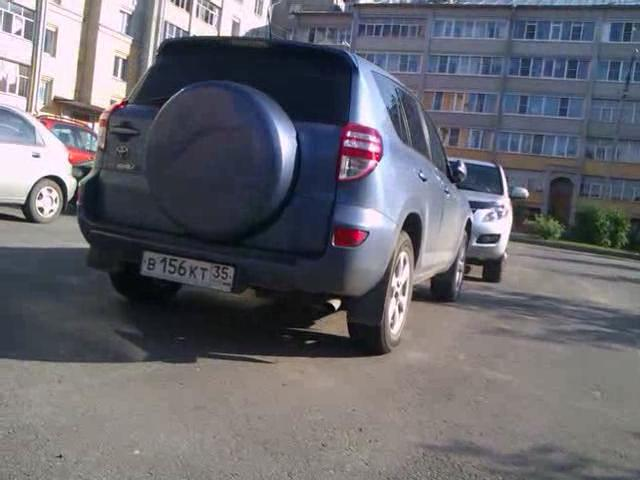car license plate: (137, 249, 238, 299)
